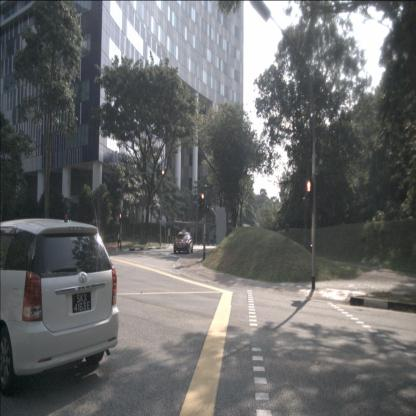human-pedestrian-adult: (116, 231, 120, 248)
vehicle-car: (0, 218, 119, 397), (173, 232, 194, 254)
